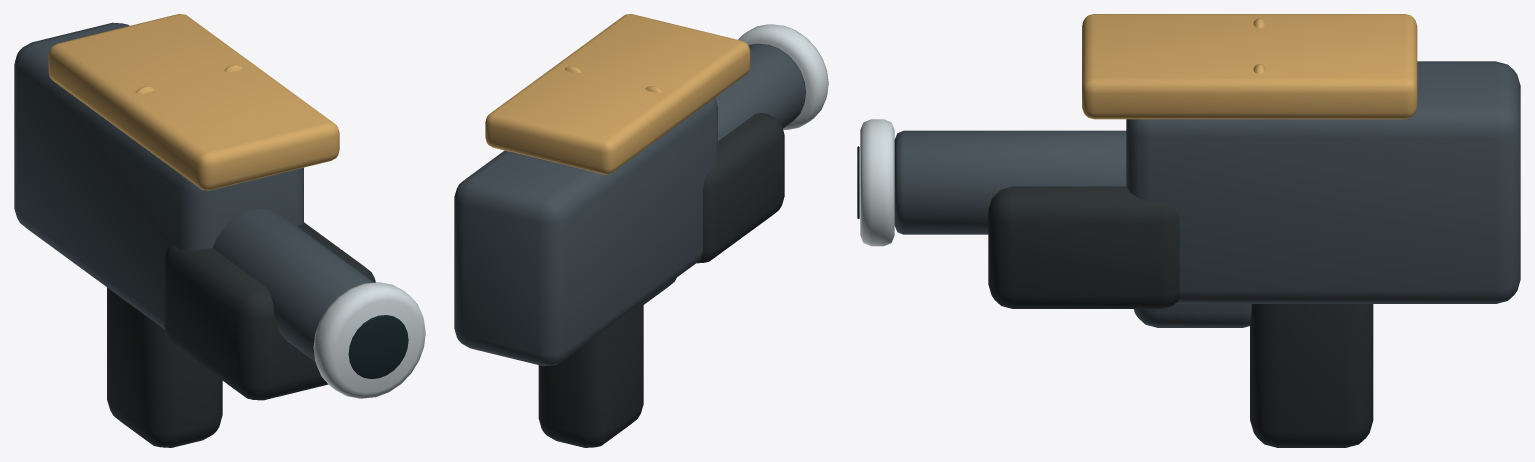
Rendered from shotgun_tight.t3.glb.
The picture shows the model from 3 angles, left to right: view 1: azimuth 30°, elevation 25°; view 2: azimuth 150°, elevation 25°; view 3: azimuth 270°, elevation 25°; orthographic projection. The views are drawn at different scales.
Parts seen in each view (by area): view 1: weapon_right__forged_bluelead_steel__protected, weapon_right__worn_warm_brass__protected, weapon_right__charcoal_rubber__protected, weapon_right__honed_steel_edge__protected, weapon_right__eye_socket__protected; view 2: weapon_right__forged_bluelead_steel__protected, weapon_right__worn_warm_brass__protected, weapon_right__charcoal_rubber__protected, weapon_right__honed_steel_edge__protected; view 3: weapon_right__forged_bluelead_steel__protected, weapon_right__charcoal_rubber__protected, weapon_right__worn_warm_brass__protected, weapon_right__honed_steel_edge__protected.
Boxes of the visible parts, bbox=[...] form: weapon_right__forged_bluelead_steel__protected: bbox=[14, 22, 373, 361]; weapon_right__worn_warm_brass__protected: bbox=[48, 14, 339, 190]; weapon_right__charcoal_rubber__protected: bbox=[107, 222, 375, 447]; weapon_right__honed_steel_edge__protected: bbox=[313, 282, 425, 398]; weapon_right__eye_socket__protected: bbox=[348, 315, 408, 378]; weapon_right__forged_bluelead_steel__protected: bbox=[454, 43, 805, 366]; weapon_right__worn_warm_brass__protected: bbox=[485, 14, 750, 174]; weapon_right__charcoal_rubber__protected: bbox=[538, 113, 784, 447]; weapon_right__honed_steel_edge__protected: bbox=[738, 24, 828, 129]; weapon_right__forged_bluelead_steel__protected: bbox=[894, 61, 1520, 327]; weapon_right__charcoal_rubber__protected: bbox=[988, 186, 1373, 447]; weapon_right__worn_warm_brass__protected: bbox=[1082, 14, 1417, 119]; weapon_right__honed_steel_edge__protected: bbox=[860, 119, 894, 246].
Size of the model in its own units: 0.175 by 0.442 by 0.673.
